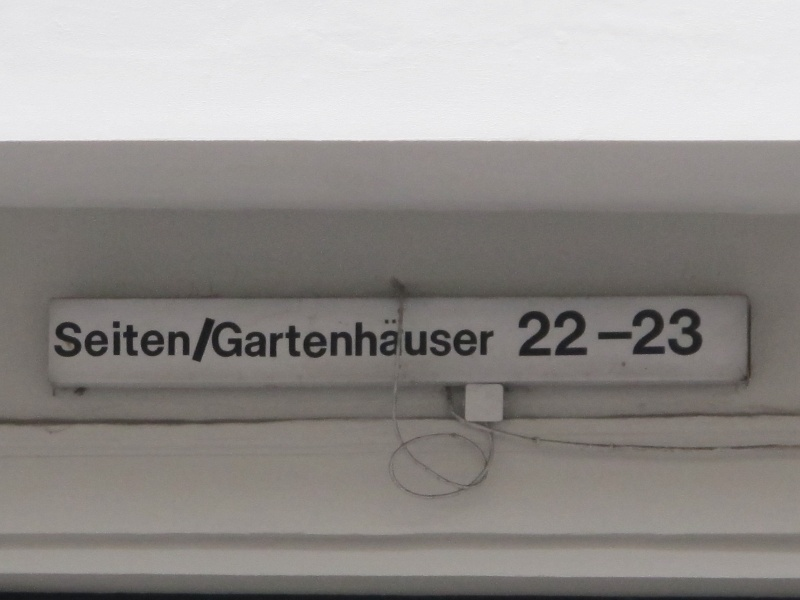text: (689, 306, 705, 363), (529, 306, 544, 363), (545, 306, 560, 363), (561, 306, 576, 363), (577, 306, 592, 363), (593, 306, 608, 363), (609, 306, 624, 363), (625, 306, 640, 363), (641, 306, 656, 363), (657, 306, 672, 363), (673, 306, 688, 363), (193, 314, 208, 365), (515, 306, 528, 363), (481, 318, 497, 361), (225, 318, 240, 361), (241, 318, 256, 361), (257, 318, 272, 361), (273, 318, 288, 361), (289, 318, 304, 361), (305, 318, 320, 361), (321, 318, 336, 361), (337, 318, 352, 361), (353, 318, 368, 361), (369, 318, 384, 361), (385, 318, 400, 361), (401, 318, 416, 361), (417, 318, 432, 361), (433, 318, 448, 361), (449, 318, 464, 361), (465, 318, 480, 361), (65, 321, 80, 361), (81, 321, 96, 361), (97, 321, 112, 361), (113, 321, 128, 361), (129, 321, 144, 361), (145, 321, 160, 361), (161, 321, 176, 361), (177, 321, 192, 361), (52, 321, 64, 361), (209, 314, 216, 365), (218, 318, 224, 361), (191, 314, 192, 365)
